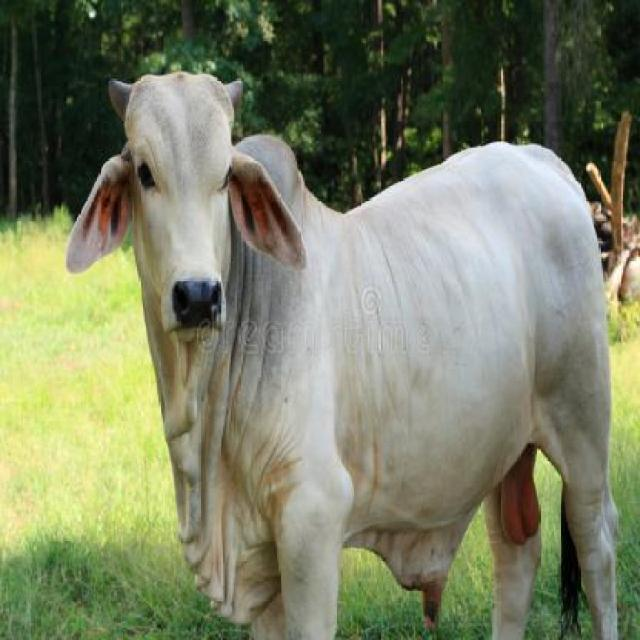Cow: (65, 47, 628, 638)
